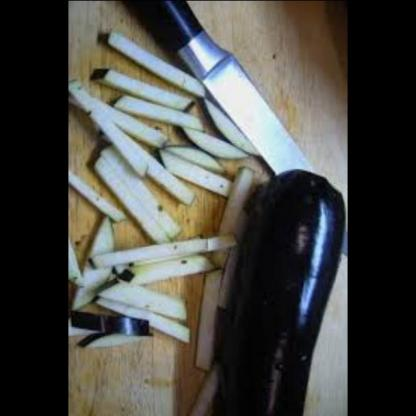eggplant: (70, 45, 243, 348), (214, 143, 349, 415)
